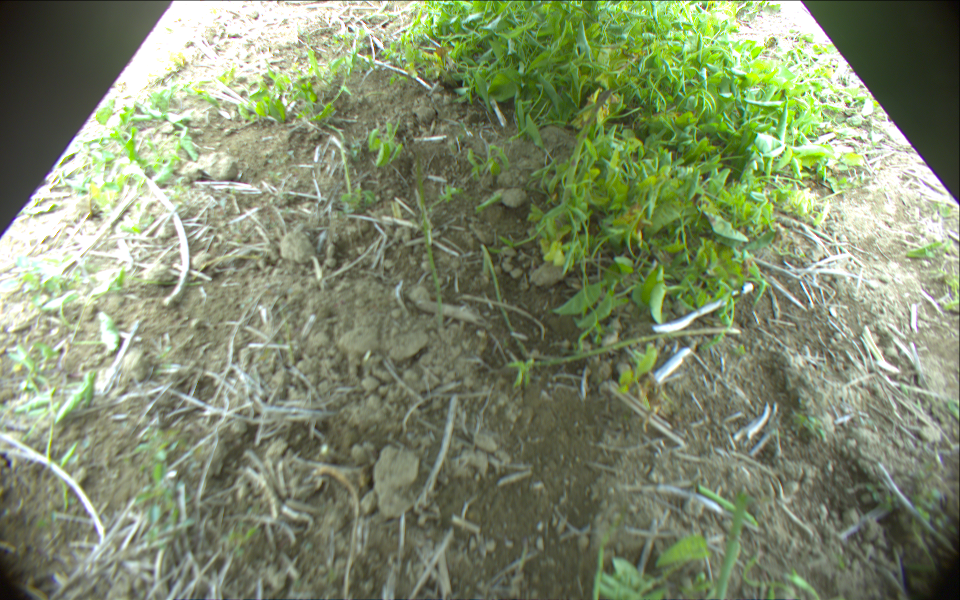aspa: (505, 325, 742, 366), (717, 492, 751, 600), (591, 544, 606, 600)
